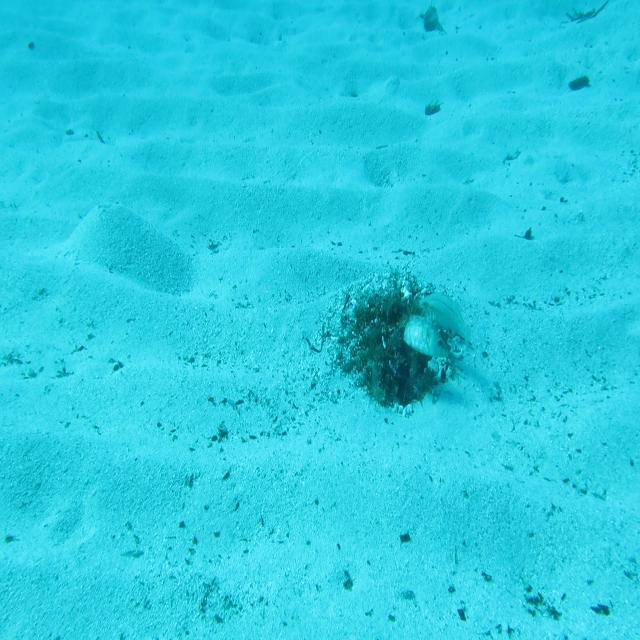DAN_CIRC: (402, 306, 450, 361)
female: (417, 287, 474, 352)
nest: (340, 273, 472, 415)
